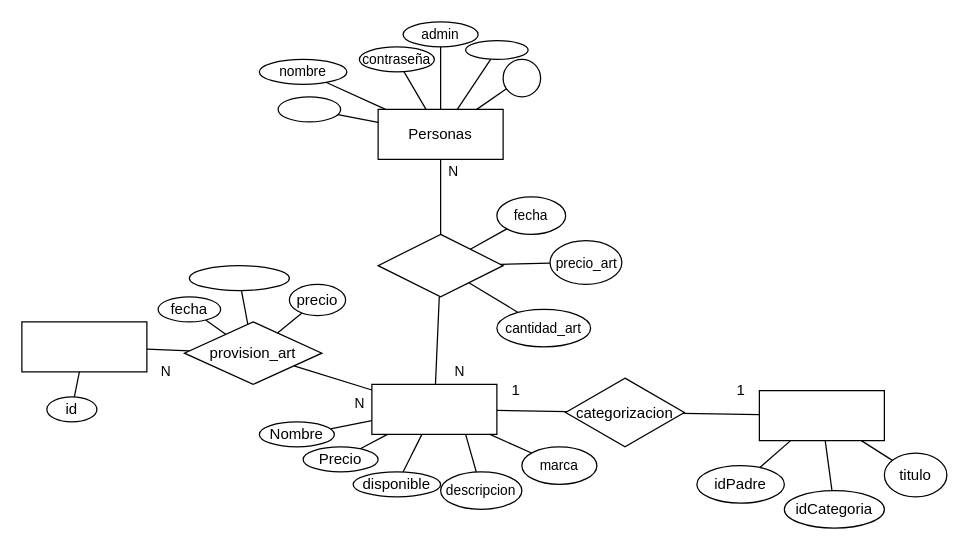
This 969x550 diagram has some shape labels left out. Here are the shapes that lost their labels. From the top down, the box of each, then its label:
(464, 39, 528, 59): correo
(502, 58, 541, 97): edad
(277, 96, 341, 122): nick
(188, 264, 289, 291): cantidad
(377, 233, 503, 297): Ventas
(21, 321, 147, 372): Provisiones
(371, 383, 497, 434): Articulos
(758, 389, 884, 441): Categorias
